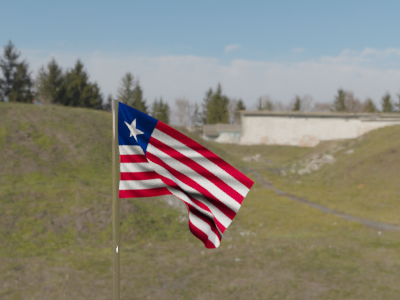Liberia flag: (119, 103, 255, 252)
